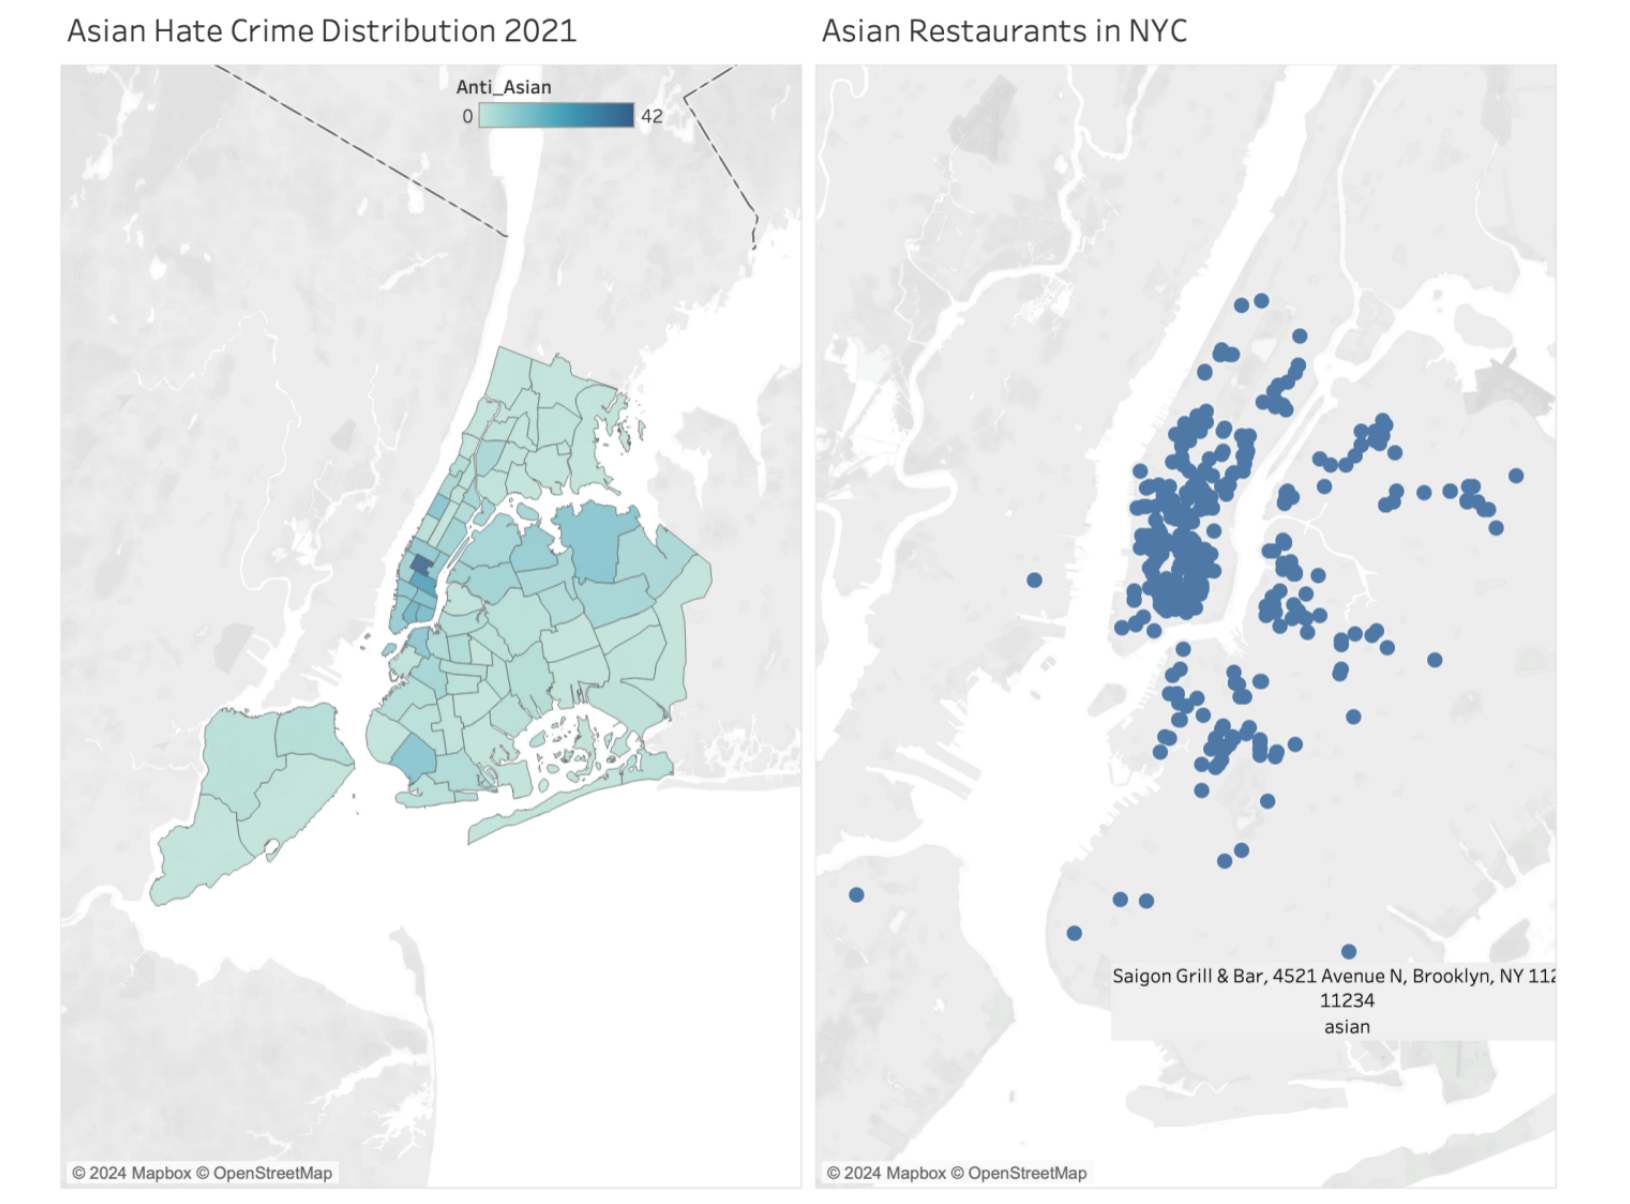

The dashboard page shown, as its layout file describes it:
{"tool":"tableau","page":{"name":"Dashboard 1","canvas":[1000,800],"ordinal":0},"visuals":[{"type":"worksheet","title":"Sheet 1","mark":"Automatic","box":[8,8,492,784]},{"type":"worksheet","title":"Sheet 2","mark":"Automatic","rows":["Lat"],"cols":["Lon"],"box":[500,8,492,784]},{"type":"legend","title":"Sheet 1","param":"[federated.15truaq15kn2651h218mu058u6fi].[sum:Calculation_965811028890787842:qk]","box":[270,57,140,76]}]}

Visuals, with their boxes on the page's 1000x800 design canvas (x1, y1, x2, y2). These are canvas units, not pixel positions in the 1630x1204 screenshot, which may show the page scaled, cropped or inside an application window:
"Sheet 1" worksheet: locate(8, 8, 500, 792)
"Sheet 2" worksheet: locate(500, 8, 992, 792)
"Sheet 1" legend: locate(270, 57, 410, 133)
